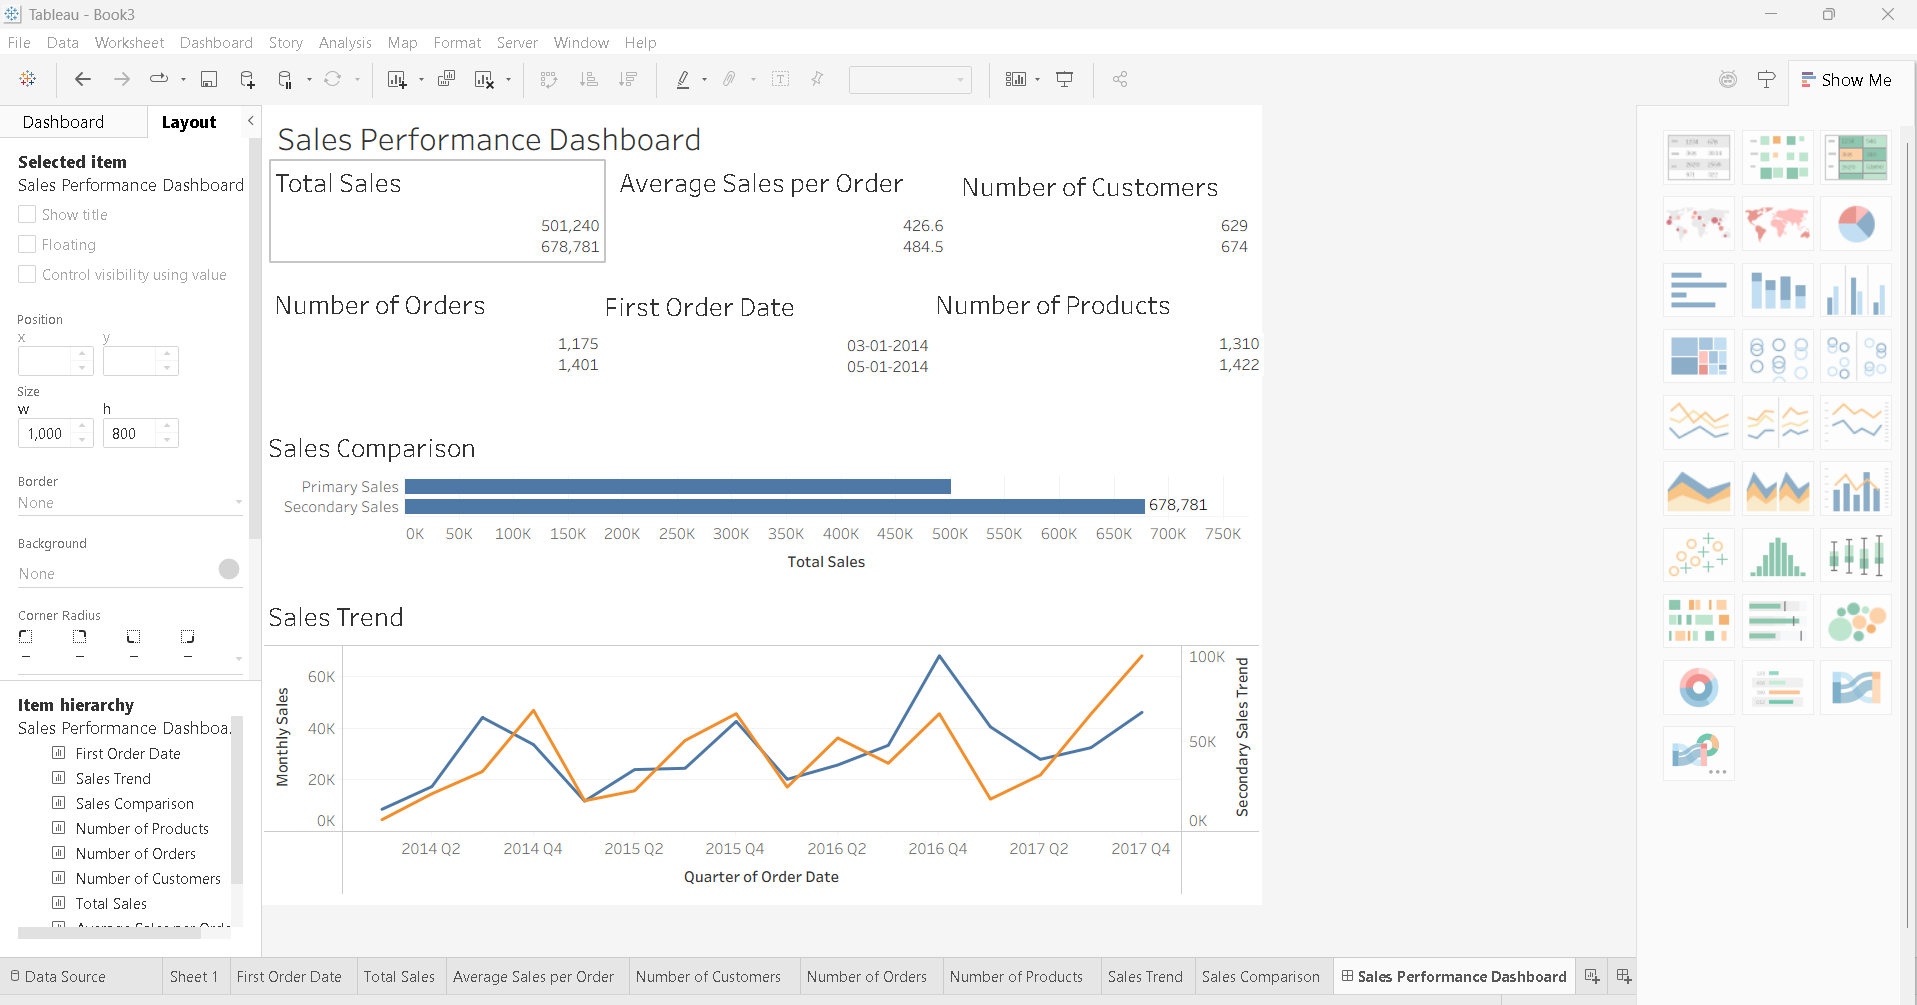

The dashboard page shown, as its layout file describes it:
{"tool":"tableau","page":{"name":"Sales Performance Dashboard","canvas":[1366,768],"ordinal":0},"visuals":[{"type":"title","box":[8,8,1350,50]},{"type":"worksheet","title":"Average Sales per Order","mark":"Automatic","box":[482.2,53.8,454.9,96]},{"type":"worksheet","title":"Number of Customers","mark":"Automatic","box":[949.4,57.6,403,92.2]},{"type":"worksheet","title":"Total Sales","mark":"Automatic","box":[9.6,58.6,449.4,93.1]},{"type":"worksheet","title":"Number of Orders","mark":"Automatic","box":[10.9,170.9,454.9,95]},{"type":"worksheet","title":"Number of Products","mark":"Automatic","box":[913.9,170.9,454.9,90.2]},{"type":"worksheet","title":"First Order Date","mark":"Automatic","box":[461.7,172.8,454.9,104.6]},{"type":"parameter","param":"[Parameters].[Parameter 0830473340342274]","box":[465.8,302.4,218.6,50.9]},{"type":"parameter","param":"[Parameters].[Parameter 0830473536536579]","box":[699.4,303.4,218.6,46.1]},{"type":"worksheet","title":"Sales Comparison","mark":"Automatic","box":[2.7,308.2,1345.5,159.4]},{"type":"worksheet","title":"Sales Trend","mark":"Automatic","rows":["Calculation_0830473562026005","Calculation_0830473562132502"],"cols":["Order Date"],"box":[2.7,470.4,1360.5,288]}]}

Visuals, with their boxes on the page's 1366x768 design canvas (x1, y1, x2, y2). These are canvas units, not pixel positions in the 1917x1005 screenshot, which may show the page scaled, cropped or inside an application window:
title: 8, 8, 1358, 58
"Average Sales per Order" worksheet: 482, 54, 937, 150
"Number of Customers" worksheet: 949, 58, 1352, 150
"Total Sales" worksheet: 10, 59, 459, 152
"Number of Orders" worksheet: 11, 171, 466, 266
"Number of Products" worksheet: 914, 171, 1369, 261
"First Order Date" worksheet: 462, 173, 917, 277
parameter: 466, 302, 684, 353
parameter: 699, 303, 918, 350
"Sales Comparison" worksheet: 3, 308, 1348, 468
"Sales Trend" worksheet: 3, 470, 1363, 758
